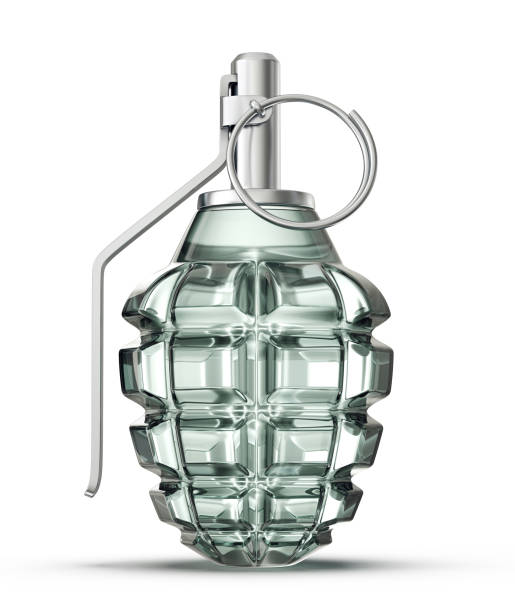e1: (87, 52, 393, 568)
